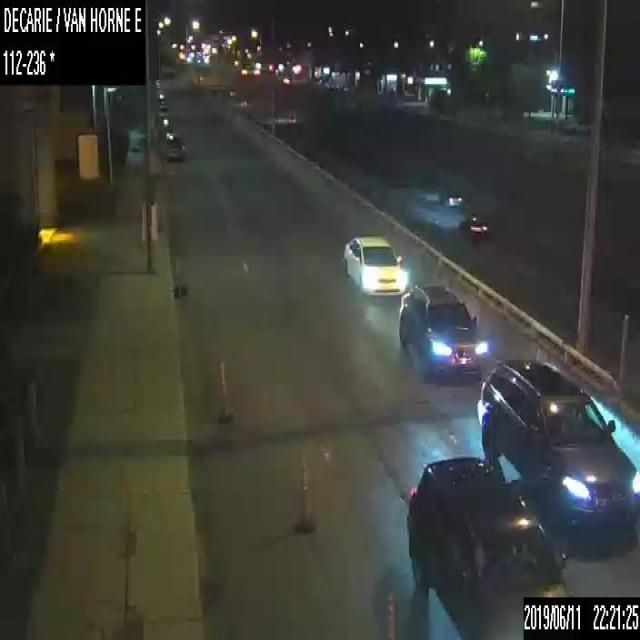construction: (290, 450, 315, 530), (217, 358, 234, 422), (173, 245, 187, 298), (384, 594, 394, 638)
vehicle: (407, 456, 572, 638), (479, 357, 639, 537), (399, 283, 485, 377), (342, 233, 407, 295), (157, 131, 184, 160), (459, 214, 486, 233), (438, 190, 461, 210), (158, 112, 172, 131), (157, 92, 166, 109), (238, 97, 247, 107)
